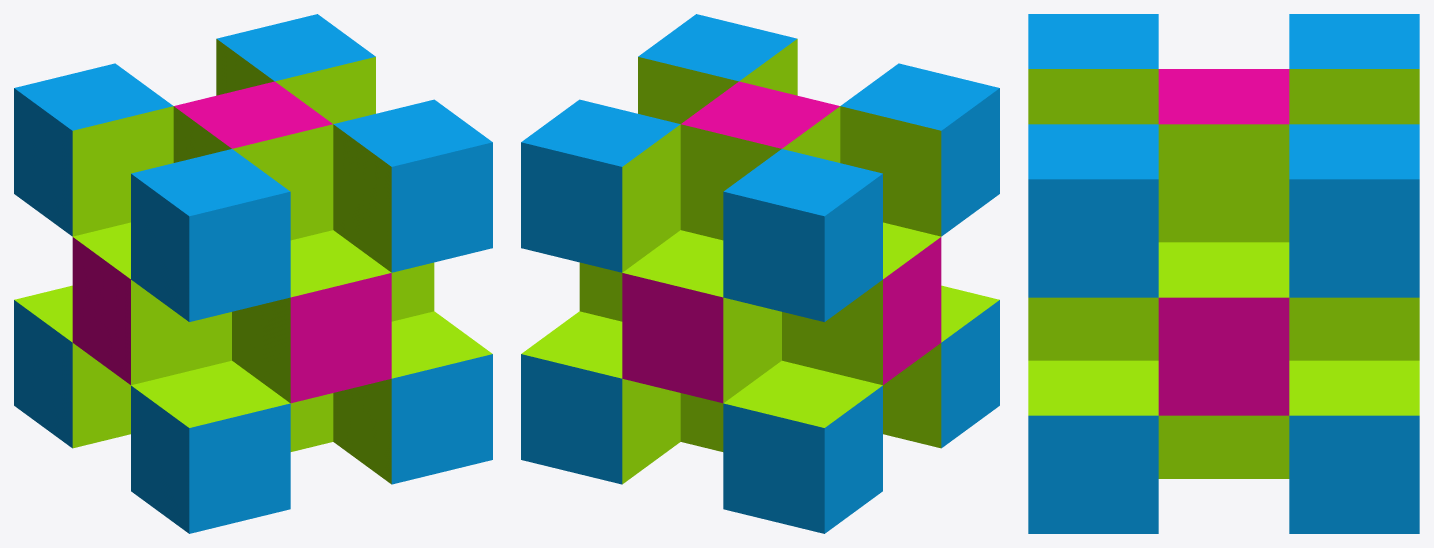
The model's file is GamehookCube.glb.
The picture shows the model from 3 angles, left to right: view 1: azimuth 30°, elevation 25°; view 2: azimuth 150°, elevation 25°; view 3: azimuth 270°, elevation 25°; orthographic projection. The views are drawn at different scales.
Visible parts, largest first — view 1: Cube; view 2: Cube; view 3: Cube.
Part boxes in pixels (x1=…): Cube: x1=14, y1=14, x2=492, y2=533; Cube: x1=521, y1=14, x2=999, y2=533; Cube: x1=1028, y1=14, x2=1419, y2=533.
Size of the model in its own units: 2 by 2 by 2.
